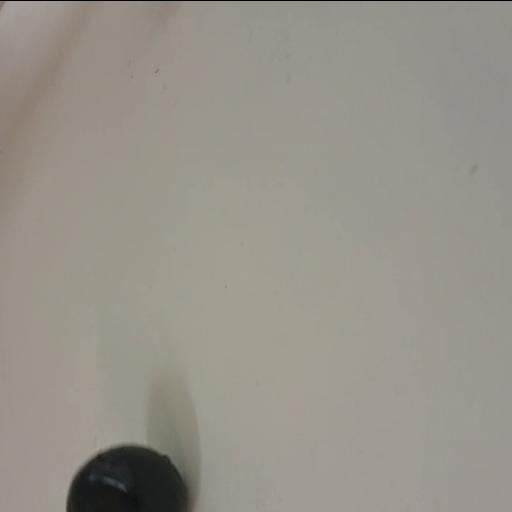dead: (65, 443, 184, 512)
